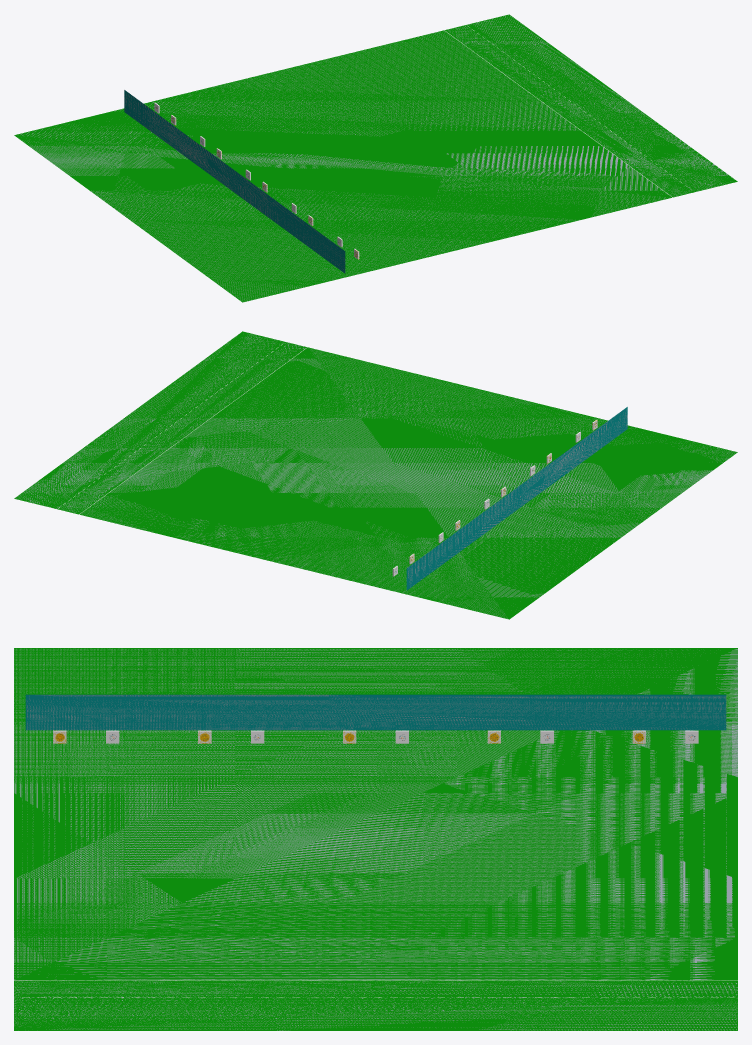
3 views of the same model, one above another, from view 1: azimuth 30°, elevation 25°; view 2: azimuth 150°, elevation 25°; view 3: azimuth 270°, elevation 25° (orthographic). The views are drawn at different scales.
Visible parts, largest first — view 1: Composant_9 (×3); view 2: Composant_9 (×3); view 3: Composant_9 (×4).
Part boxes in pixels (box(x1,y1,x2,y2)): Composant_9 (×3): box(14, 14, 737, 302); Composant_9 (×3): box(14, 331, 737, 619); Composant_9 (×4): box(14, 648, 737, 1030).
Size of the model in its own units: 4535 by 3625 by 197.
